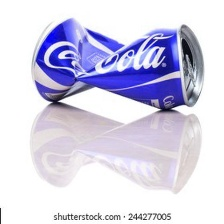can: (16, 98, 211, 195), (26, 13, 210, 110)
